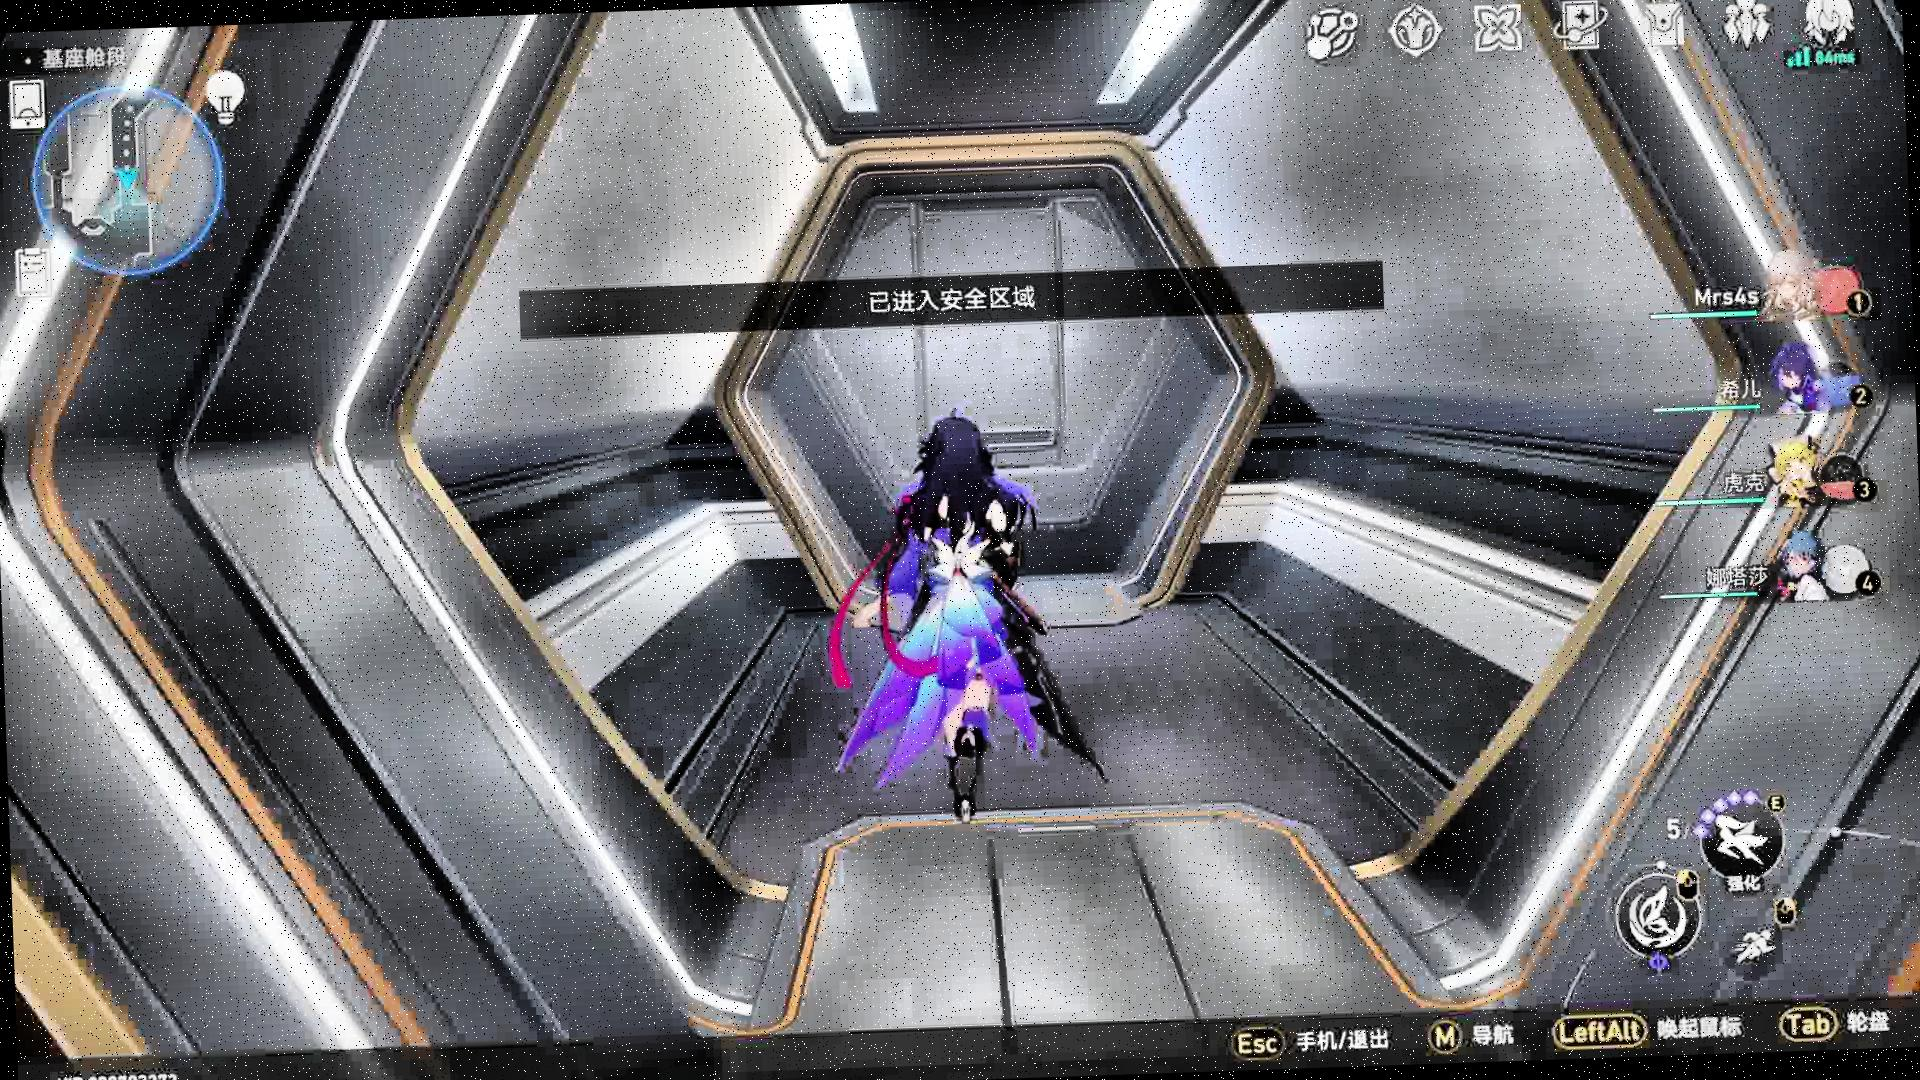Self: (822, 406, 1114, 832)
